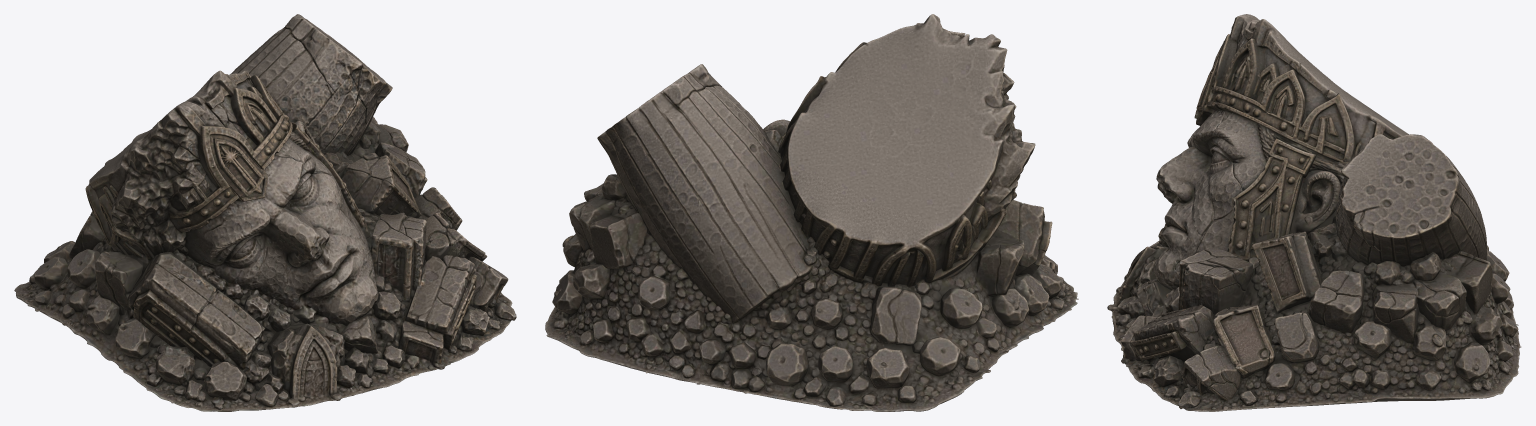
The model's file is stone_head.glb.
3 renders of one model, left to right at view 1: azimuth 30°, elevation 25°; view 2: azimuth 150°, elevation 25°; view 3: azimuth 270°, elevation 25°, orthographic. The views are drawn at different scales.
Bounding box in the file's own units: 0.9795 × 0.6864 × 0.9438.
1 material, 1 textured.
